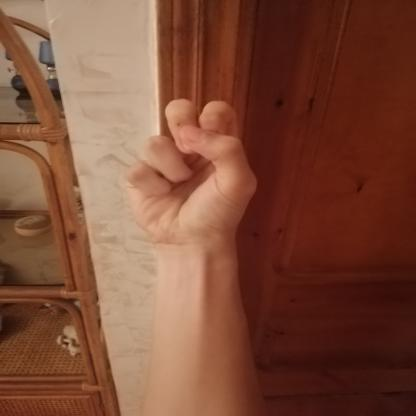QAAF: (109, 87, 274, 258)
